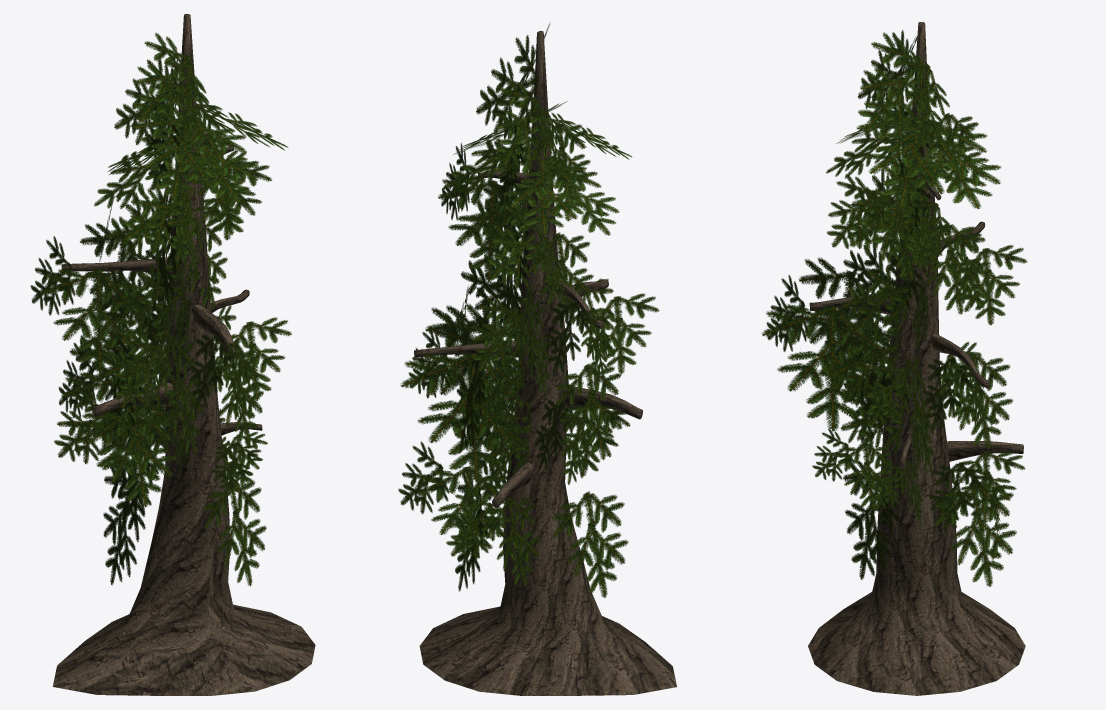
Rendered from pine_tree_lod_hight.glb.
The picture shows the model from 3 angles, left to right: view 1: azimuth 30°, elevation 25°; view 2: azimuth 150°, elevation 25°; view 3: azimuth 270°, elevation 25°; orthographic projection. The views are drawn at different scales.
Parts seen in each view (by area): view 1: tree_1.png__, trunk_bark.jpg__; view 2: tree_1.png__, trunk_bark.jpg__; view 3: tree_1.png__, trunk_bark.jpg__.
Boxes of the visible parts, box(x1,y1,x2,y2) form: tree_1.png__: box(30, 32, 291, 586); trunk_bark.jpg__: box(52, 14, 315, 695); tree_1.png__: box(398, 23, 659, 597); trunk_bark.jpg__: box(414, 31, 676, 695); tree_1.png__: box(761, 30, 1027, 586); trunk_bark.jpg__: box(808, 22, 1025, 695).
Size of the model in its own units: 5.43 by 12.01 by 5.94.
Materials: 2 (2 with a texture image).
